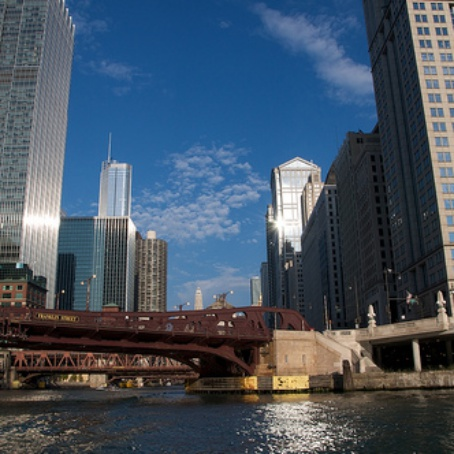bridge: (1, 283, 309, 392)
building: (369, 1, 454, 308), (1, 1, 81, 305), (336, 132, 392, 320), (260, 142, 312, 322), (58, 215, 133, 311), (293, 188, 338, 318), (133, 236, 174, 314), (100, 153, 136, 214)
river: (1, 376, 434, 454)
sky: (70, 1, 374, 236)
